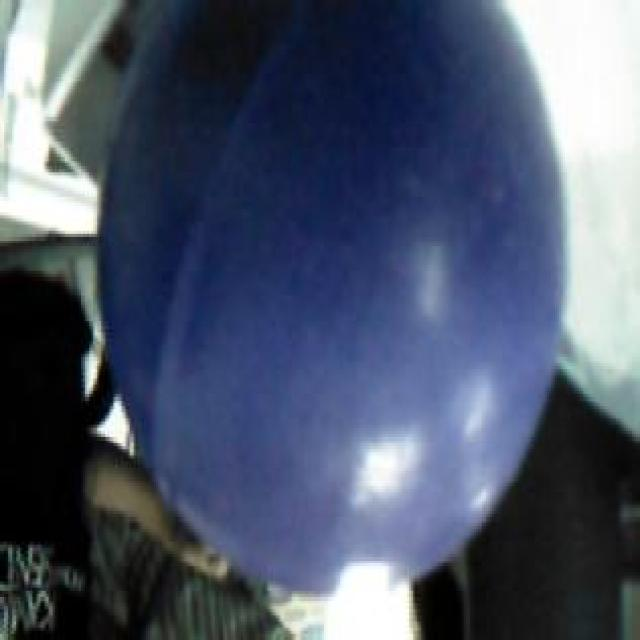BallPurple: (97, 0, 564, 593)
